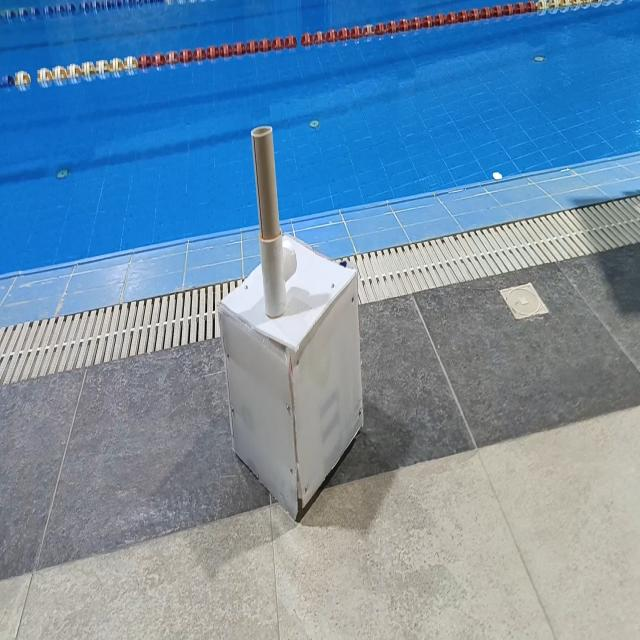Cube: (216, 232, 364, 521)
